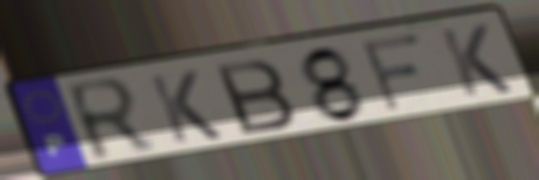8: (295, 41, 367, 126)
B: (210, 56, 300, 138)
F: (357, 29, 427, 116)
K: (435, 21, 518, 100), (145, 68, 227, 146)
R: (60, 74, 162, 167)
